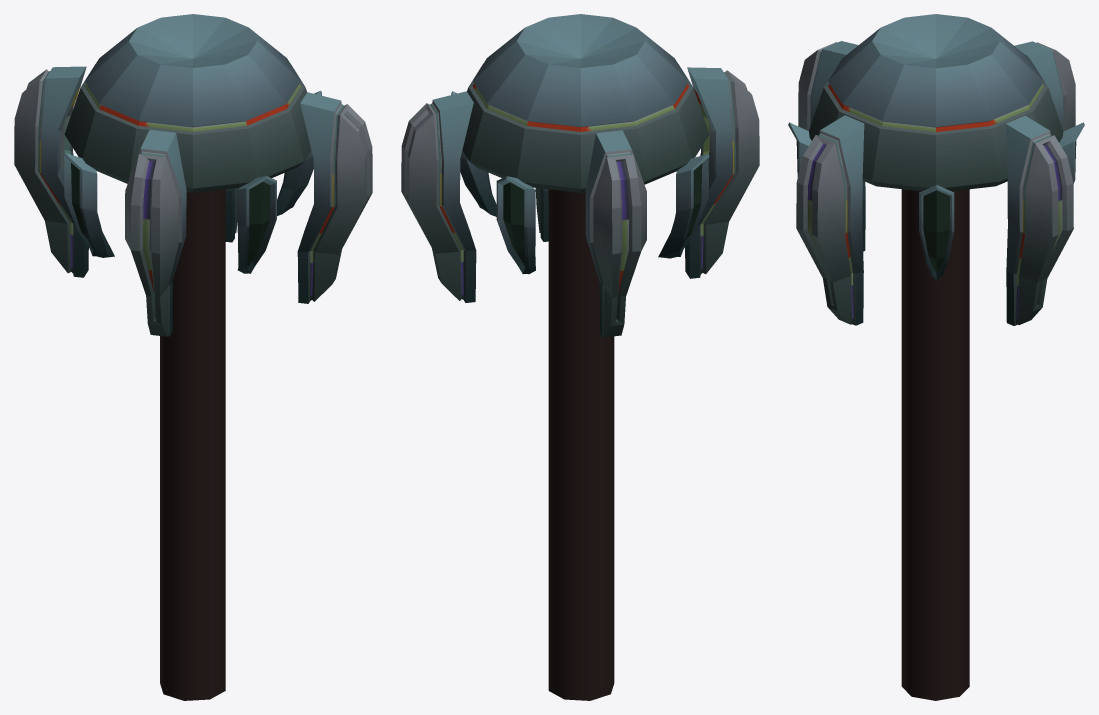
Rendered from scifi_reactor.glb.
The picture shows the model from 3 angles, left to right: view 1: azimuth 30°, elevation 25°; view 2: azimuth 150°, elevation 25°; view 3: azimuth 270°, elevation 25°; orthographic projection.
Parts seen in each view (by area): view 1: Lava_machine; view 2: Lava_machine; view 3: Lava_machine.
Boxes of the visible parts, x1,y1,x2,y2 form: Lava_machine: [14, 14, 372, 700]; Lava_machine: [401, 14, 759, 700]; Lava_machine: [788, 14, 1084, 700].
Size of the model in its own units: 3.6 by 8.6 by 3.58.
1 material, 1 textured.
